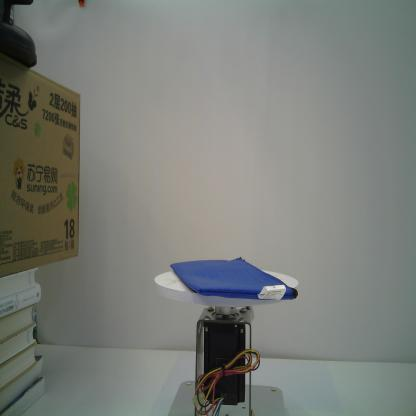Stationery: (170, 257, 299, 301)
